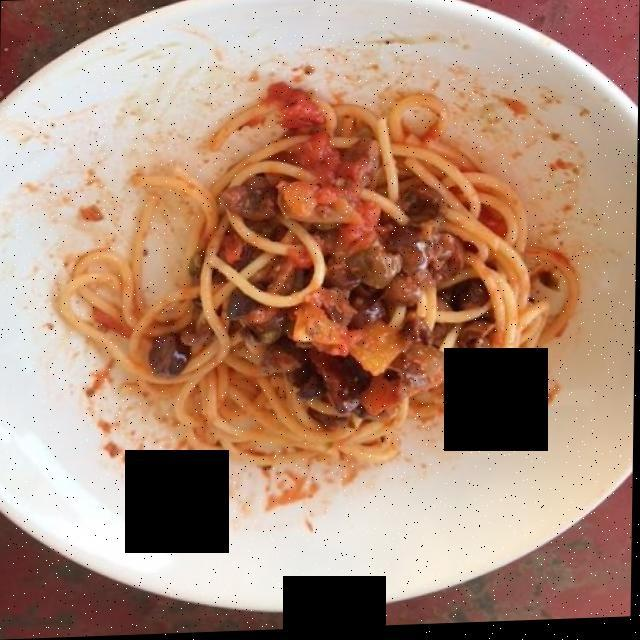bell-pepper: (283, 188, 443, 407)
pasta: (60, 86, 576, 475)
